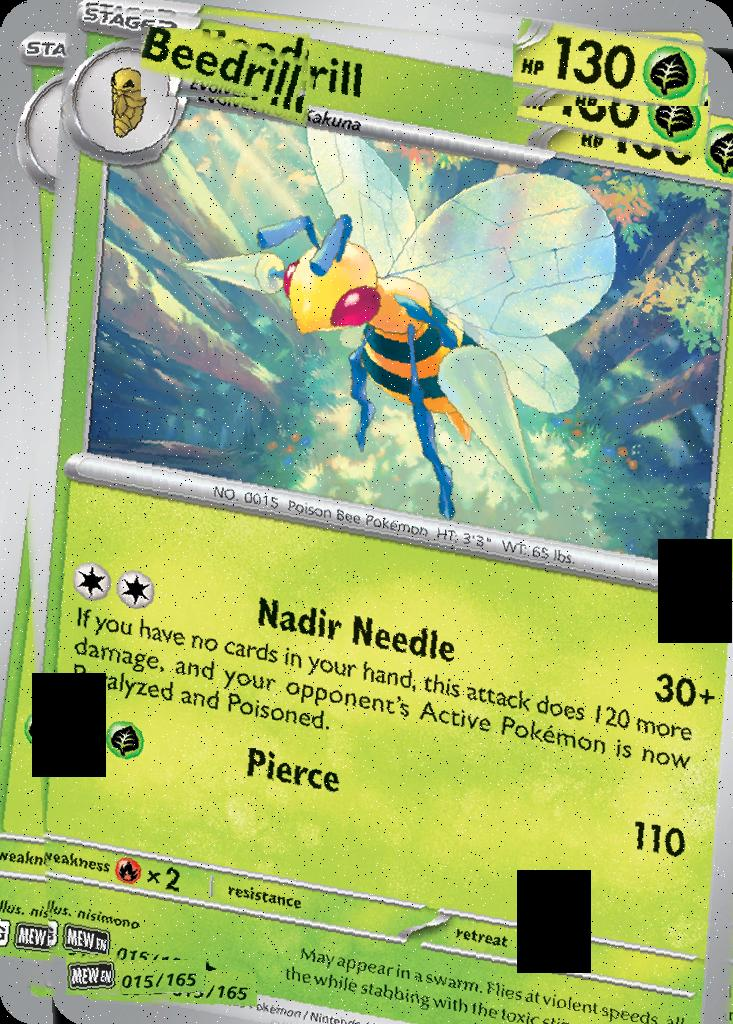card: (0, 0, 733, 1024)
hp: (514, 25, 709, 106)
name: (141, 28, 310, 98)
set num: (119, 960, 207, 994)
set symbol: (66, 953, 121, 995)
